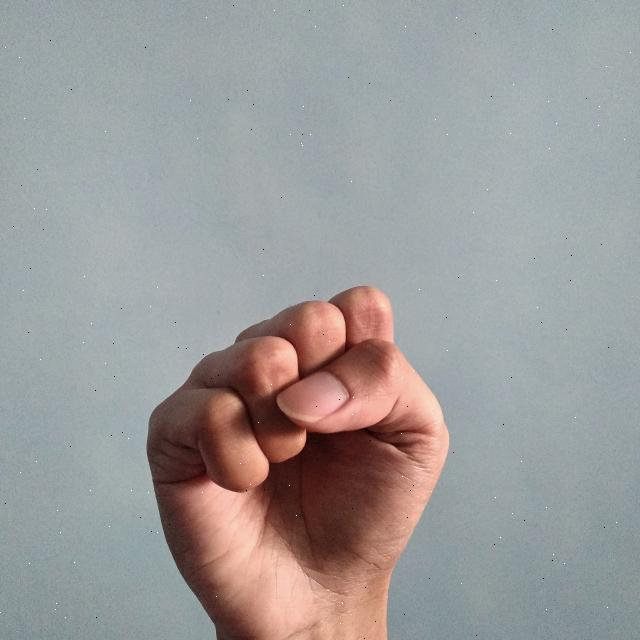S: (138, 279, 456, 640)
